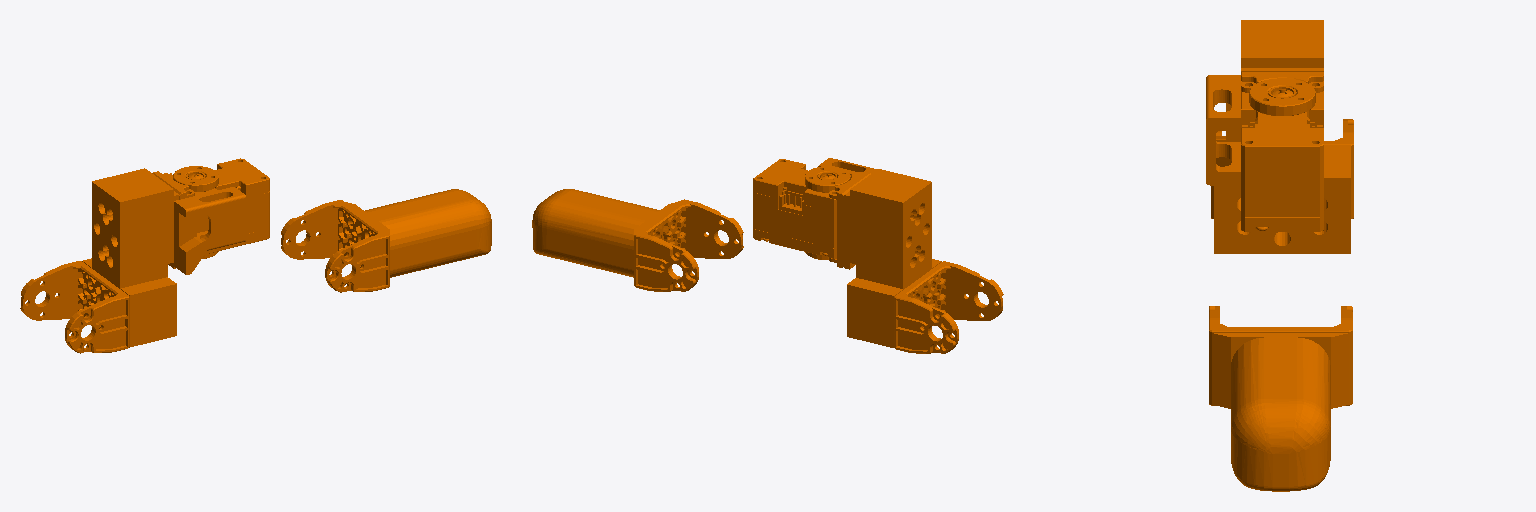
robot.urdf — onshape:
<robot name="onshape">
  <link name="palm_lower">
    <inertial>
      <origin xyz="0.0 0.0 0.0" rpy="0.0 -0.0 0.0"/>
      <mass value="0.237"/>
      <inertia ixx="0.000354094" ixy="-1.193e-06" ixz="-2.445e-06" iyy="0.000260915" iyz="-2.905e-06" izz="0.000529257"/>
    </inertial>
    <visual>
      <geometry>
        <mesh filename="../assets/leap/leap_hand/palm_lower.stl"/>
      </geometry>
      <origin xyz="-0.020095249652862544 0.025757756134899473 -0.034722403578460216" rpy="0.0 -0.0 0.0"/>
      <material name="palm_lower_material">
        <color rgba="0.6039215686274509 0.14901960784313725 0.14901960784313725 1.0"/>
      </material>
    </visual>
    <collision>
      <geometry>
        <mesh filename="../assets/leap/leap_hand/palm_lower.stl"/>
      </geometry>
      <origin xyz="-0.020095249652862544 0.025757756134899473 -0.034722403578460216" rpy="0.0 -0.0 0.0"/>
    </collision>
  </link>
  <link name="mcp_joint_long">
    <inertial>
      <origin xyz="0.0 0.0 0.0" rpy="0.0 -0.0 0.0"/>
      <mass value="0.044"/>
      <inertia ixx="1.1499e-05" ixy="3.049e-06" ixz="1.21e-07" iyy="7.796e-06" iyz="1.12e-07" izz="1.4759e-05"/>
    </inertial>
    <visual>
      <geometry>
        <mesh filename="custom_models/mcp_joint_long.stl"/>
      </geometry>
      <origin xyz="0.008406902261174496 0.0077662438597169954 0.014657354985032912" rpy="1.6375789613221e-15 -1.021047330249102e-30 1.7177968783327987e-31"/>
      <material name="mcp_joint_material">
        <color rgba="0.878 0.467 0.0 1.0"/>
      </material>
    </visual>
    <collision>
      <geometry>
        <mesh filename="custom_models/mcp_joint_long.stl"/>
      </geometry>
      <origin xyz="0.008406902261174496 0.0077662438597169954 0.014657354985032912" rpy="1.6375789613221e-15 -1.021047330249102e-30 1.7177968783327987e-31"/>
    </collision>
  </link>
  <link name="pip">
    <inertial>
      <origin xyz="0.0 0.0 0.0" rpy="0.0 -0.0 0.0"/>
      <mass value="0.032"/>
      <inertia ixx="4.798e-06" ixy="1.2e-08" ixz="4e-09" iyy="2.862e-06" iyz="1.1e-08" izz="4.234e-06"/>
    </inertial>
    <visual>
      <geometry>
        <mesh filename="../assets/leap/leap_hand/pip.stl"/>
      </geometry>
      <origin xyz="0.009643363092271328 0.0002999999999999895 0.0007840340104173765" rpy="-1.5707963267948966 -1.5707963267948963 0.0"/>
      <material name="pip_material">
        <color rgba="0.7490196078431373 0.7490196078431373 0.7490196078431373 1.0"/>
      </material>
    </visual>
    <collision>
      <geometry>
        <mesh filename="../assets/leap/leap_hand/pip.stl"/>
      </geometry>
      <origin xyz="0.009643363092271328 0.0002999999999999895 0.0007840340104173765" rpy="-1.5707963267948966 -1.5707963267948963 0.0"/>
    </collision>
  </link>
  <link name="dip">
    <inertial>
      <origin xyz="0.0 0.0 0.0" rpy="0.0 -0.0 0.0"/>
      <mass value="0.037"/>
      <inertia ixx="5.542e-06" ixy="-6.07e-07" ixz="-1.7e-08" iyy="5.727e-06" iyz="-2.3e-08" izz="6.682e-06"/>
    </inertial>
    <visual>
      <geometry>
        <mesh filename="../assets/leap/leap_hand/dip.stl"/>
      </geometry>
      <origin xyz="0.021133352895225003 -0.00843211914670488 0.00978508816209524" rpy="-3.141592653589793 4.507511124216441e-32 4.439548105392361e-32"/>
      <material name="dip_material">
        <color rgba="0.8666666666666667 0.8666666666666667 0.050980392156862744 1.0"/>
      </material>
    </visual>
    <collision>
      <geometry>
        <mesh filename="../assets/leap/leap_hand/dip.stl"/>
      </geometry>
      <origin xyz="0.021133352895225003 -0.00843211914670488 0.00978508816209524" rpy="-3.141592653589793 4.507511124216441e-32 4.439548105392361e-32"/>
    </collision>
  </link>
  <link name="fingertip_long">
    <inertial>
      <origin xyz="0.0 0.0 0.0" rpy="0.0 -0.0 0.0"/>
      <mass value="0.016"/>
      <inertia ixx="3.368e-06" ixy="1.15e-07" ixz="0.0" iyy="1.556e-06" iyz="0.0" izz="2.863e-06"/>
    </inertial>
    <visual>
      <geometry>
        <mesh filename="custom_models/fingertip_long.stl"/>
      </geometry>
      <origin xyz="0.013286424108533503 -0.006114238386541987 0.014499999999999498" rpy="3.141592653589793 1.1993117970061735e-33 4.439548105392361e-32"/>
      <material name="fingertip_material">
        <color rgba="0.878 0.467 0.0 1.0"/>
      </material>
    </visual>
    <collision>
      <geometry>
        <mesh filename="custom_models/fingertip_long.stl"/>
      </geometry>
      <origin xyz="0.013286424108533503 -0.006114238386541987 0.014499999999999498" rpy="3.141592653589793 1.1993117970061735e-33 4.439548105392361e-32"/>
    </collision>
  </link>
  <link name="pip_4">
    <inertial>
      <origin xyz="0.0 0.0 0.0" rpy="0.0 -0.0 0.0"/>
      <mass value="0.032"/>
      <inertia ixx="4.798e-06" ixy="1.2e-08" ixz="4e-09" iyy="2.862e-06" iyz="1.1e-08" izz="4.234e-06"/>
    </inertial>
    <visual>
      <geometry>
        <mesh filename="../assets/leap/leap_hand/pip.stl"/>
      </geometry>
      <origin xyz="-0.005356636907728671 0.0002999999999999999 0.0007840340104173782" rpy="-1.5707963267948966 -1.5707963267948963 0.0"/>
      <material name="pip_material">
        <color rgba="0.7490196078431373 0.7490196078431373 0.7490196078431373 1.0"/>
      </material>
    </visual>
    <collision>
      <geometry>
        <mesh filename="../assets/leap/leap_hand/pip.stl"/>
      </geometry>
      <origin xyz="-0.005356636907728671 0.0002999999999999999 0.0007840340104173782" rpy="-1.5707963267948966 -1.5707963267948963 0.0"/>
    </collision>
  </link>
  <link name="thumb_pip">
    <inertial>
      <origin xyz="0.0 0.0 0.0" rpy="0.0 -0.0 0.0"/>
      <mass value="0.003"/>
      <inertia ixx="5.93e-07" ixy="0.0" ixz="0.0" iyy="5.49e-07" iyz="0.0" izz="2.24e-07"/>
    </inertial>
    <visual>
      <geometry>
        <mesh filename="../assets/leap/leap_hand/thumb_pip.stl"/>
      </geometry>
      <origin xyz="0.011961920770611187 -5.30825383648903e-16 -0.0158526489566642" rpy="1.5707963267948966 1.6050198443300153e-46 -3.9204996250525193e-59"/>
      <material name="thumb_pip_material">
        <color rgba="0.8666666666666667 0.8666666666666667 0.050980392156862744 1.0"/>
      </material>
    </visual>
    <collision>
      <geometry>
        <mesh filename="../assets/leap/leap_hand/thumb_pip.stl"/>
      </geometry>
      <origin xyz="0.011961920770611187 -5.30825383648903e-16 -0.0158526489566642" rpy="1.5707963267948966 1.6050198443300153e-46 -3.9204996250525193e-59"/>
    </collision>
  </link>
  <link name="thumb_dip">
    <inertial>
      <origin xyz="0.0 0.0 0.0" rpy="0.0 -0.0 0.0"/>
      <mass value="0.038"/>
      <inertia ixx="8.474e-06" ixy="2.41e-07" ixz="2.6e-08" iyy="3.841e-06" iyz="2.5e-08" izz="7.679e-06"/>
    </inertial>
    <visual>
      <geometry>
        <mesh filename="../assets/leap/leap_hand/thumb_dip.stl"/>
      </geometry>
      <origin xyz="0.043968715707239175 0.0579529529737092 -0.008628676449369476" rpy="1.94289029309401e-16 3.27515792264422e-15 1.112375852965736e-46"/>
      <material name="thumb_dip_material">
        <color rgba="0.8666666666666667 0.8666666666666667 0.050980392156862744 1.0"/>
      </material>
    </visual>
    <collision>
      <geometry>
        <mesh filename="../assets/leap/leap_hand/thumb_dip.stl"/>
      </geometry>
      <origin xyz="0.043968715707239175 0.0579529529737092 -0.008628676449369476" rpy="1.94289029309401e-16 3.27515792264422e-15 1.112375852965736e-46"/>
    </collision>
  </link>
  <link name="thumb_fingertip">
    <inertial>
      <origin xyz="0.0 0.0 0.0" rpy="0.0 -0.0 0.0"/>
      <mass value="0.049"/>
      <inertia ixx="2.0372e-05" ixy="-4.89e-07" ixz="-3e-08" iyy="4.336e-06" iyz="-9.7e-08" izz="1.9845e-05"/>
    </inertial>
    <visual>
      <geometry>
        <mesh filename="../assets/leap/leap_hand/thumb_fingertip.stl"/>
      </geometry>
      <origin xyz="0.06255953846266739 0.07845968291139699 0.048992911807332215" rpy="4.379057701015637e-47 -3.33066907387547e-16 1.2042408677791935e-46"/>
      <material name="thumb_fingertip_material">
        <color rgba="0.6039215686274509 0.14901960784313725 0.14901960784313725 1.0"/>
      </material>
    </visual>
    <collision>
      <geometry>
        <mesh filename="../assets/leap/leap_hand/thumb_fingertip.stl"/>
      </geometry>
      <origin xyz="0.06255953846266739 0.07845968291139699 0.048992911807332215" rpy="4.379057701015637e-47 -3.33066907387547e-16 1.2042408677791935e-46"/>
    </collision>
  </link>
  <link name="mcp_joint_2">
    <inertial>
      <origin xyz="0.0 0.0 0.0" rpy="0.0 -0.0 0.0"/>
      <mass value="0.044"/>
      <inertia ixx="1.1499e-05" ixy="3.049e-06" ixz="1.21e-07" iyy="7.796e-06" iyz="1.12e-07" izz="1.4759e-05"/>
    </inertial>
    <visual>
      <geometry>
        <mesh filename="../assets/leap/leap_hand/mcp_joint.stl"/>
      </geometry>
      <origin xyz="0.008406902261174496 0.0077662438597169954 0.014657354985032914" rpy="1.6375789613221e-15 -1.0076465469034e-30 2.1209300131419907e-61"/>
      <material name="mcp_joint_material">
        <color rgba="0.8666666666666667 0.8666666666666667 0.050980392156862744 1.0"/>
      </material>
    </visual>
    <collision>
      <geometry>
        <mesh filename="../assets/leap/leap_hand/mcp_joint.stl"/>
      </geometry>
      <origin xyz="0.008406902261174496 0.0077662438597169954 0.014657354985032914" rpy="1.6375789613221e-15 -1.0076465469034e-30 2.1209300131419907e-61"/>
    </collision>
  </link>
  <link name="pip_2">
    <inertial>
      <origin xyz="0.0 0.0 0.0" rpy="0.0 -0.0 0.0"/>
      <mass value="0.032"/>
      <inertia ixx="4.798e-06" ixy="1.2e-08" ixz="4e-09" iyy="2.862e-06" iyz="1.1e-08" izz="4.234e-06"/>
    </inertial>
    <visual>
      <geometry>
        <mesh filename="../assets/leap/leap_hand/pip.stl"/>
      </geometry>
      <origin xyz="0.009643363092271328 0.0002999999999999947 0.0007840340104173765" rpy="-1.5707963267948966 -1.5707963267948963 0.0"/>
      <material name="pip_material">
        <color rgba="0.7490196078431373 0.7490196078431373 0.7490196078431373 1.0"/>
      </material>
    </visual>
    <collision>
      <geometry>
        <mesh filename="../assets/leap/leap_hand/pip.stl"/>
      </geometry>
      <origin xyz="0.009643363092271328 0.0002999999999999947 0.0007840340104173765" rpy="-1.5707963267948966 -1.5707963267948963 0.0"/>
    </collision>
  </link>
  <link name="dip_2">
    <inertial>
      <origin xyz="0.0 0.0 0.0" rpy="0.0 -0.0 0.0"/>
      <mass value="0.037"/>
      <inertia ixx="5.542e-06" ixy="-6.07e-07" ixz="-1.7e-08" iyy="5.727e-06" iyz="-2.3e-08" izz="6.682e-06"/>
    </inertial>
    <visual>
      <geometry>
        <mesh filename="../assets/leap/leap_hand/dip.stl"/>
      </geometry>
      <origin xyz="0.021133352895225003 -0.008432119146704865 0.009785088162095237" rpy="-3.141592653589793 2.1146933785271956e-32 1.4408183216511869e-31"/>
      <material name="dip_material">
        <color rgba="0.8666666666666667 0.8666666666666667 0.050980392156862744 1.0"/>
      </material>
    </visual>
    <collision>
      <geometry>
        <mesh filename="../assets/leap/leap_hand/dip.stl"/>
      </geometry>
      <origin xyz="0.021133352895225003 -0.008432119146704865 0.009785088162095237" rpy="-3.141592653589793 2.1146933785271956e-32 1.4408183216511869e-31"/>
    </collision>
  </link>
  <link name="fingertip_2">
    <inertial>
      <origin xyz="0.0 0.0 0.0" rpy="0.0 -0.0 0.0"/>
      <mass value="0.016"/>
      <inertia ixx="3.368e-06" ixy="1.15e-07" ixz="0.0" iyy="1.556e-06" iyz="0.0" izz="2.863e-06"/>
    </inertial>
    <visual>
      <geometry>
        <mesh filename="../assets/leap/leap_hand/fingertip.stl"/>
      </geometry>
      <origin xyz="0.013286424108533496 -0.006114238386542001 0.014499999999999496" rpy="3.141592653589793 -4.317959788283594e-33 1.4408183216511869e-31"/>
      <material name="fingertip_material">
        <color rgba="0.8666666666666667 0.8666666666666667 0.050980392156862744 1.0"/>
      </material>
    </visual>
    <collision>
      <geometry>
        <mesh filename="../assets/leap/leap_hand/fingertip.stl"/>
      </geometry>
      <origin xyz="0.013286424108533496 -0.006114238386542001 0.014499999999999496" rpy="3.141592653589793 -4.317959788283594e-33 1.4408183216511869e-31"/>
    </collision>
  </link>
  <link name="mcp_joint_3">
    <inertial>
      <origin xyz="0.0 0.0 0.0" rpy="0.0 -0.0 0.0"/>
      <mass value="0.044"/>
      <inertia ixx="1.1499e-05" ixy="3.049e-06" ixz="1.21e-07" iyy="7.796e-06" iyz="1.12e-07" izz="1.4759e-05"/>
    </inertial>
    <visual>
      <geometry>
        <mesh filename="../assets/leap/leap_hand/mcp_joint.stl"/>
      </geometry>
      <origin xyz="0.0084069022611745 0.007766243859716996 0.014657354985032914" rpy="1.6375789613221e-15 -1.0059504988632627e-30 5.729641584552035e-32"/>
      <material name="mcp_joint_material">
        <color rgba="0.8666666666666667 0.8666666666666667 0.050980392156862744 1.0"/>
      </material>
    </visual>
    <collision>
      <geometry>
        <mesh filename="../assets/leap/leap_hand/mcp_joint.stl"/>
      </geometry>
      <origin xyz="0.0084069022611745 0.007766243859716996 0.014657354985032914" rpy="1.6375789613221e-15 -1.0059504988632627e-30 5.729641584552035e-32"/>
    </collision>
  </link>
  <link name="pip_3">
    <inertial>
      <origin xyz="0.0 0.0 0.0" rpy="0.0 -0.0 0.0"/>
      <mass value="0.032"/>
      <inertia ixx="4.798e-06" ixy="1.2e-08" ixz="4e-09" iyy="2.862e-06" iyz="1.1e-08" izz="4.234e-06"/>
    </inertial>
    <visual>
      <geometry>
        <mesh filename="../assets/leap/leap_hand/pip.stl"/>
      </geometry>
      <origin xyz="0.009643363092271331 0.00029999999999998084 0.0007840340104173765" rpy="-1.5707963267948966 -1.5707963267948963 0.0"/>
      <material name="pip_material">
        <color rgba="0.7490196078431373 0.7490196078431373 0.7490196078431373 1.0"/>
      </material>
    </visual>
    <collision>
      <geometry>
        <mesh filename="../assets/leap/leap_hand/pip.stl"/>
      </geometry>
      <origin xyz="0.009643363092271331 0.00029999999999998084 0.0007840340104173765" rpy="-1.5707963267948966 -1.5707963267948963 0.0"/>
    </collision>
  </link>
  <link name="dip_3">
    <inertial>
      <origin xyz="0.0 0.0 0.0" rpy="0.0 -0.0 0.0"/>
      <mass value="0.037"/>
      <inertia ixx="5.542e-06" ixy="-6.07e-07" ixz="-1.7e-08" iyy="5.727e-06" iyz="-2.3e-08" izz="6.682e-06"/>
    </inertial>
    <visual>
      <geometry>
        <mesh filename="../assets/leap/leap_hand/dip.stl"/>
      </geometry>
      <origin xyz="0.021133352895225006 -0.008432119146704865 0.009785088162095237" rpy="-3.141592653589793 -1.4095651113919093e-33 1.5565411607615035e-32"/>
      <material name="dip_material">
        <color rgba="0.8666666666666667 0.8666666666666667 0.050980392156862744 1.0"/>
      </material>
    </visual>
    <collision>
      <geometry>
        <mesh filename="../assets/leap/leap_hand/dip.stl"/>
      </geometry>
      <origin xyz="0.021133352895225006 -0.008432119146704865 0.009785088162095237" rpy="-3.141592653589793 -1.4095651113919093e-33 1.5565411607615035e-32"/>
    </collision>
  </link>
  <link name="fingertip_3">
    <inertial>
      <origin xyz="0.0 0.0 0.0" rpy="0.0 -0.0 0.0"/>
      <mass value="0.016"/>
      <inertia ixx="3.368e-06" ixy="1.15e-07" ixz="0.0" iyy="1.556e-06" iyz="0.0" izz="2.863e-06"/>
    </inertial>
    <visual>
      <geometry>
        <mesh filename="../assets/leap/leap_hand/fingertip.stl"/>
      </geometry>
      <origin xyz="0.013286424108533501 -0.006114238386541987 0.0144999999999995" rpy="3.141592653589793 8.61707169505754e-33 1.5565411607615035e-32"/>
      <material name="fingertip_material">
        <color rgba="0.8666666666666667 0.8666666666666667 0.050980392156862744 1.0"/>
      </material>
    </visual>
    <collision>
      <geometry>
        <mesh filename="../assets/leap/leap_hand/fingertip.stl"/>
      </geometry>
      <origin xyz="0.013286424108533501 -0.006114238386541987 0.0144999999999995" rpy="3.141592653589793 8.61707169505754e-33 1.5565411607615035e-32"/>
    </collision>
  </link>
  <joint name="1" type="revolute">
    <parent link="palm_lower"/>
    <child link="mcp_joint_long"/>
    <origin xyz="-0.007095249652862546 0.023057756134899472 -0.01872240357846022" rpy="1.570796326794895 1.5707963267948946 0.0"/>
    <axis xyz="0.0 0.0 -1.0"/>
    <limit effort="0.95" velocity="8.48" lower="-0.314" upper="2.23"/>
  </joint>
  <joint name="0" type="revolute">
    <parent link="mcp_joint_long"/>
    <child link="pip"/>
    <origin xyz="-0.012200000000000007713 0.053099999999999994982 0.014500000000000000736" rpy="-1.5707963267948966 -1.0065212660796337e-15 1.5707963267948943"/>
    <axis xyz="0.0 0.0 -1.0"/>
    <limit effort="0.95" velocity="8.48" lower="-1.047" upper="1.047"/>
  </joint>
  <joint name="2" type="revolute">
    <parent link="pip"/>
    <child link="dip"/>
    <origin xyz="0.014999999999999968 0.014299999999999905 -0.012999999999999824" rpy="1.570796326794896 -1.5707963267948963 0.0"/>
    <axis xyz="0.0 0.0 -1.0"/>
    <limit effort="0.95" velocity="8.48" lower="-0.506" upper="1.885"/>
  </joint>
  <joint name="3" type="revolute">
    <parent link="dip"/>
    <child link="fingertip_long"/>
    <origin xyz="-4.088058249557269e-09 -0.03610000421036737 0.0002000000000000786" rpy="4.5935029425113685e-17 -2.8730071914463795e-16 4.439548105392361e-32"/>
    <axis xyz="0.0 0.0 -1.0"/>
    <limit effort="0.95" velocity="8.48" lower="-0.366" upper="2.042"/>
  </joint>
  <joint name="12" type="revolute">
    <parent link="palm_lower"/>
    <child link="pip_4"/>
    <origin xyz="-0.06939524965286253 -0.0012422438651005258 -0.021622403578460216" rpy="-8.238176646493942e-17 1.5707963267948957 0.0"/>
    <axis xyz="0.0 0.0 -1.0"/>
    <limit effort="0.95" velocity="8.48" lower="-0.349" upper="2.094"/>
  </joint>
  <joint name="13" type="revolute">
    <parent link="pip_4"/>
    <child link="thumb_pip"/>
    <origin xyz="-2.7755575615628914e-17 0.014300000000000005 -0.013000000000000012" rpy="1.570796326794896 -1.5707963267948963 0.0"/>
    <axis xyz="0.0 0.0 -1.0"/>
    <limit effort="0.95" velocity="8.48" lower="-0.47" upper="2.443"/>
  </joint>
  <joint name="14" type="revolute">
    <parent link="thumb_pip"/>
    <child link="thumb_dip"/>
    <origin xyz="0.0 0.014499999999999966 -0.017000000000000053" rpy="-1.5707963267948966 1.6050198443300131e-46 -1.9721522630516625e-31"/>
    <axis xyz="0.0 0.0 -1.0"/>
    <limit effort="0.95" velocity="8.48" lower="-1.2" upper="1.9"/>
  </joint>
  <joint name="15" type="revolute">
    <parent link="thumb_dip"/>
    <child link="thumb_fingertip"/>
    <origin xyz="-1.249000902703301e-16 0.046599999999999864 0.0001999999999999771" rpy="1.506395849149178e-44 5.423418723393526e-31 3.141592653589793"/>
    <axis xyz="0.0 0.0 -1.0"/>
    <limit effort="0.95" velocity="8.48" lower="-1.34" upper="1.88"/>
  </joint>
  <joint name="5" type="revolute">
    <parent link="palm_lower"/>
    <child link="mcp_joint_2"/>
    <origin xyz="-0.007095249652862546 -0.022392243865100525 -0.01872240357846022" rpy="1.570796326794895 1.5707963267948946 0.0"/>
    <axis xyz="0.0 0.0 -1.0"/>
    <limit effort="0.95" velocity="8.48" lower="-0.314" upper="2.23"/>
  </joint>
  <joint name="4" type="revolute">
    <parent link="mcp_joint_2"/>
    <child link="pip_2"/>
    <origin xyz="-0.012200000000000008 0.038099999999999995 0.0145" rpy="-1.5707963267948966 -1.0065212660796337e-15 1.5707963267948943"/>
    <axis xyz="0.0 0.0 -1.0"/>
    <limit effort="0.95" velocity="8.48" lower="-1.047" upper="1.047"/>
  </joint>
  <joint name="6" type="revolute">
    <parent link="pip_2"/>
    <child link="dip_2"/>
    <origin xyz="0.014999999999999968 0.014299999999999905 -0.012999999999999824" rpy="1.570796326794896 -1.5707963267948963 0.0"/>
    <axis xyz="0.0 0.0 -1.0"/>
    <limit effort="0.95" velocity="8.48" lower="-0.506" upper="1.885"/>
  </joint>
  <joint name="7" type="revolute">
    <parent link="dip_2"/>
    <child link="fingertip_2"/>
    <origin xyz="-4.088058249557269e-09 -0.03610000421036737 0.0002000000000000786" rpy="4.5935029425113685e-17 -2.8730071914463795e-16 4.439548105392361e-32"/>
    <axis xyz="0.0 0.0 -1.0"/>
    <limit effort="0.95" velocity="8.48" lower="-0.366" upper="2.042"/>
  </joint>
  <joint name="9" type="revolute">
    <parent link="palm_lower"/>
    <child link="mcp_joint_3"/>
    <origin xyz="-0.007095249652862546 -0.06784224386510052 -0.01872240357846022" rpy="1.570796326794895 1.5707963267948946 0.0"/>
    <axis xyz="0.0 0.0 -1.0"/>
    <limit effort="0.95" velocity="8.48" lower="-0.314" upper="2.23"/>
  </joint>
  <joint name="8" type="revolute">
    <parent link="mcp_joint_3"/>
    <child link="pip_3"/>
    <origin xyz="-0.012200000000000008 0.038099999999999995 0.0145" rpy="-1.5707963267948966 -1.0065212660796337e-15 1.5707963267948943"/>
    <axis xyz="0.0 0.0 -1.0"/>
    <limit effort="0.95" velocity="8.48" lower="-1.047" upper="1.047"/>
  </joint>
  <joint name="10" type="revolute">
    <parent link="pip_3"/>
    <child link="dip_3"/>
    <origin xyz="0.014999999999999968 0.014299999999999905 -0.012999999999999824" rpy="1.570796326794896 -1.5707963267948963 0.0"/>
    <axis xyz="0.0 0.0 -1.0"/>
    <limit effort="0.95" velocity="8.48" lower="-0.506" upper="1.885"/>
  </joint>
  <joint name="11" type="revolute">
    <parent link="dip_3"/>
    <child link="fingertip_3"/>
    <origin xyz="-4.088058249557269e-09 -0.03610000421036737 0.0002000000000000786" rpy="4.5935029425113685e-17 -2.8730071914463795e-16 4.439548105392361e-32"/>
    <axis xyz="0.0 0.0 -1.0"/>
    <limit effort="0.95" velocity="8.48" lower="-0.366" upper="2.042"/>
  </joint>
</robot>

--- What the picture shows (computed from the rendered views, not written in the file) ---
3 views of the same robot in one strip: view 1: azimuth 30°, elevation 25°; view 2: azimuth 150°, elevation 25°; view 3: azimuth 270°, elevation 25° (orthographic).
Model onshape with 17 links and 16 joints (16 revolute), rooted at palm_lower, posed every joint at zero.
Visible links, largest first — view 1: mcp_joint_long, fingertip_long; view 2: mcp_joint_long, fingertip_long; view 3: mcp_joint_long, fingertip_long.
Boxes of the visible links, x1=… form: mcp_joint_long: x1=20, y1=158, x2=269, y2=353; fingertip_long: x1=281, y1=189, x2=491, y2=292; mcp_joint_long: x1=753, y1=158, x2=1003, y2=353; fingertip_long: x1=532, y1=189, x2=743, y2=291; mcp_joint_long: x1=1206, y1=20, x2=1353, y2=253; fingertip_long: x1=1209, y1=306, x2=1352, y2=491.
Size in the robot's own frame: 0.1766 by 0.0358 by 0.0549 metres.
Meshes: 10 distinct files referenced, 2 mesh visuals loaded (2 binary STL); not drawn: 15 (reference not matched to a file when rendering).